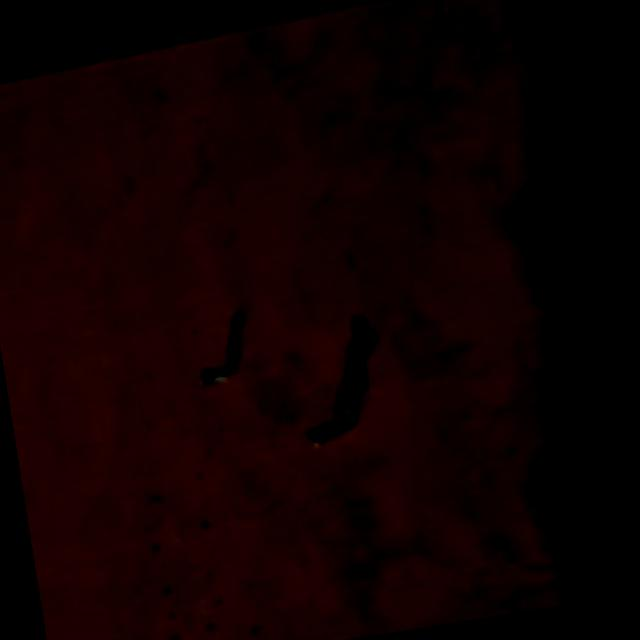Person: (297, 406, 363, 448), (186, 348, 242, 392)
